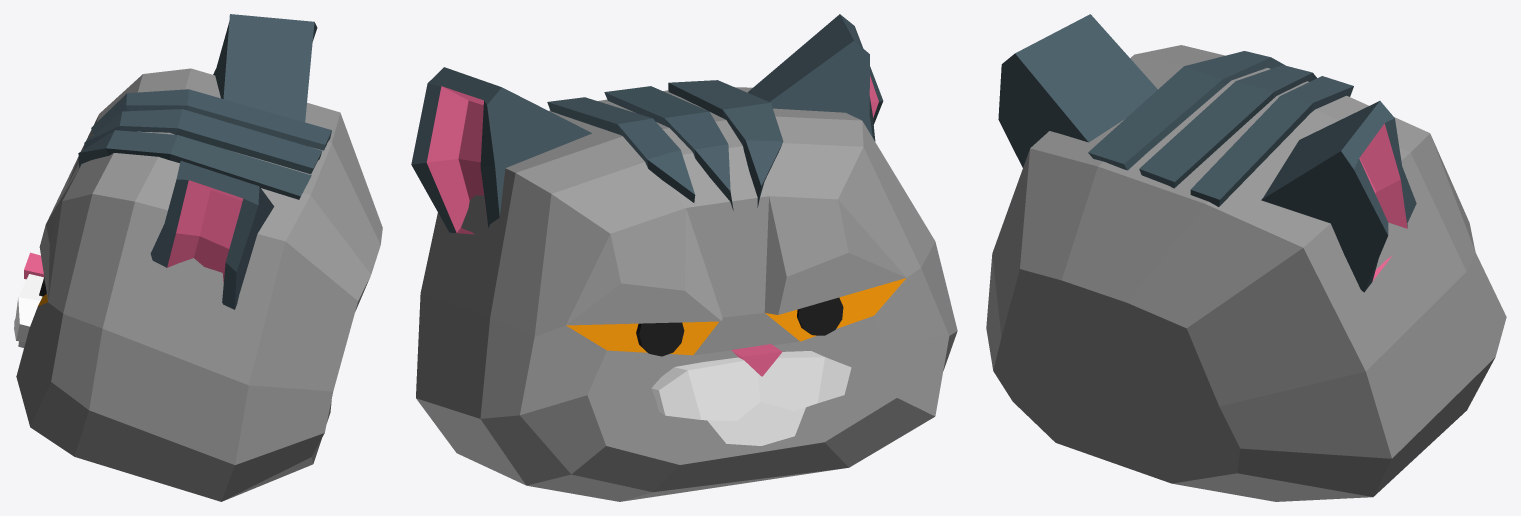
Rendered from Cat.fbx.
3 renders of one model, left to right at view 1: azimuth 30°, elevation 25°; view 2: azimuth 150°, elevation 25°; view 3: azimuth 270°, elevation 25°, orthographic. The views are drawn at different scales.
Visible parts, largest first — view 1: mesh_1932486327, mesh_598749005, mesh_1717132288, mesh_2142930274, mesh_2073198580, mesh_688622445, mesh_1418028769; view 2: mesh_1932486327, mesh_1717132288, mesh_1418028769, mesh_598749005, mesh_2142930274, mesh_2073198580, mesh_688622445, mesh_445153108, mesh_34835231, mesh_1732848719, mesh_1140040804; view 3: mesh_1932486327, mesh_1717132288, mesh_598749005, mesh_2142930274, mesh_2073198580, mesh_688622445.
Part boxes in pixels (left/top/right/bottom): mesh_1932486327: left=16, top=68, right=382, bottom=501; mesh_598749005: left=150, top=161, right=274, bottom=309; mesh_1717132288: left=213, top=14, right=317, bottom=122; mesh_2142930274: left=78, top=130, right=311, bottom=199; mesh_2073198580: left=84, top=109, right=322, bottom=174; mesh_688622445: left=91, top=89, right=331, bottom=150; mesh_1418028769: left=14, top=249, right=43, bottom=342; mesh_1932486327: left=416, top=87, right=957, bottom=501; mesh_1717132288: left=411, top=67, right=591, bottom=234; mesh_1418028769: left=651, top=351, right=851, bottom=421; mesh_598749005: left=747, top=14, right=883, bottom=141; mesh_2142930274: left=668, top=80, right=783, bottom=207; mesh_2073198580: left=604, top=86, right=733, bottom=210; mesh_688622445: left=547, top=97, right=695, bottom=202; mesh_445153108: left=707, top=402, right=805, bottom=445; mesh_34835231: left=636, top=322, right=684, bottom=356; mesh_1732848719: left=797, top=297, right=843, bottom=335; mesh_1140040804: left=731, top=344, right=782, bottom=376; mesh_1932486327: left=986, top=45, right=1506, bottom=501; mesh_1717132288: left=1261, top=101, right=1416, bottom=292; mesh_598749005: left=998, top=14, right=1157, bottom=167; mesh_2142930274: left=1088, top=51, right=1285, bottom=170; mesh_2073198580: left=1139, top=65, right=1316, bottom=188; mesh_688622445: left=1190, top=76, right=1353, bottom=206.
Size of the model in its own units: 28.85 by 27.15 by 31.5.
